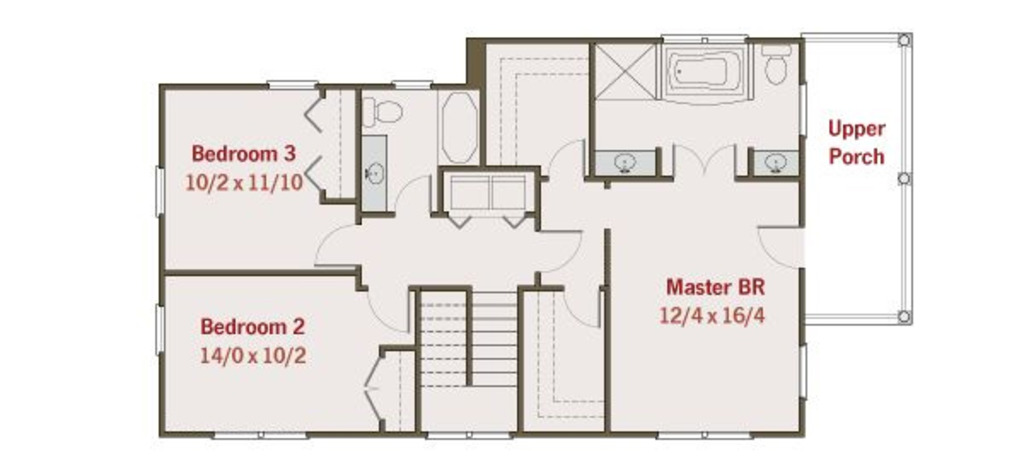door: (668, 140, 743, 181), (754, 222, 811, 273), (362, 284, 414, 333), (545, 129, 591, 184), (307, 223, 364, 267), (537, 225, 584, 274), (391, 171, 435, 221), (564, 286, 607, 330)
large_sink: (755, 41, 798, 90), (362, 91, 406, 129)
small_sink: (593, 144, 657, 176), (359, 142, 387, 209), (755, 151, 802, 175)
stairs: (416, 288, 516, 409)
tub: (664, 45, 753, 109), (432, 86, 486, 163)
window: (150, 165, 172, 217), (209, 430, 311, 440), (153, 302, 170, 359), (646, 430, 756, 438), (265, 78, 320, 92), (424, 430, 507, 439), (800, 337, 807, 399)
